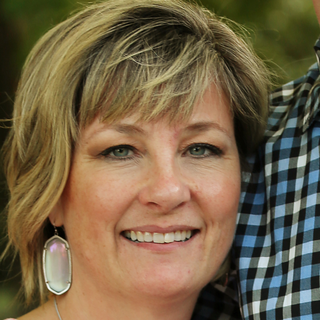eye: (94, 139, 145, 164), (177, 138, 226, 163)
